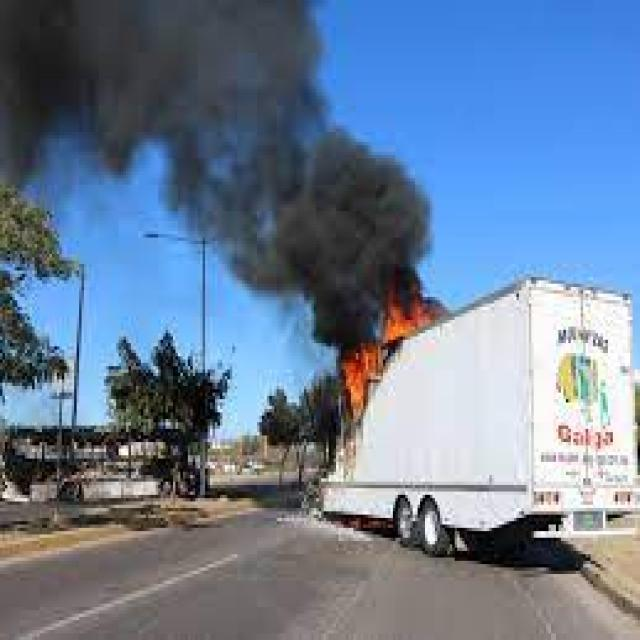Fire: (340, 346, 384, 422), (382, 284, 434, 341)
Smoke: (0, 0, 326, 187), (178, 181, 325, 289), (324, 136, 428, 286), (310, 286, 384, 344)
